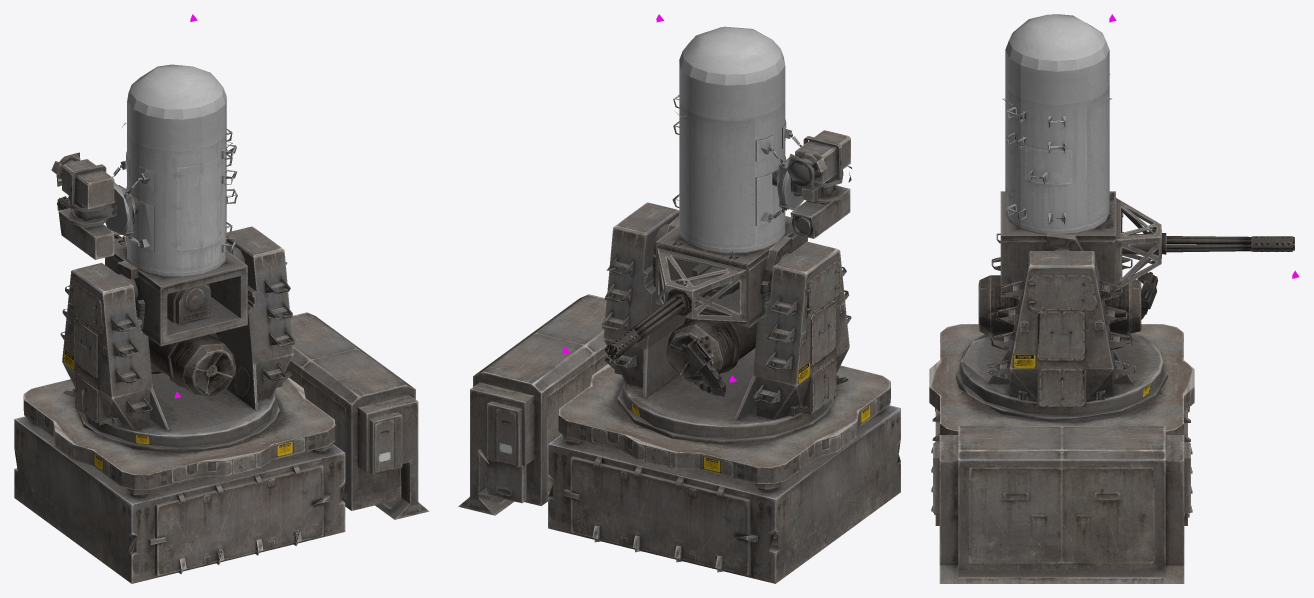
File: cram.glb
The picture shows the model from 3 angles, left to right: view 1: azimuth 30°, elevation 25°; view 2: azimuth 150°, elevation 25°; view 3: azimuth 270°, elevation 25°; orthographic projection. The views are drawn at different scales.
Parts seen in each view (by area): view 1: Body_1, Turret_1; view 2: Body_1, Turret_1; view 3: Body_1, Turret_1.
Boxes of the visible parts, left/top/right/bottom form: Body_1: left=14, top=312, right=429, bottom=583; Turret_1: left=51, top=64, right=295, bottom=430; Body_1: left=458, top=294, right=900, bottom=583; Turret_1: left=601, top=26, right=851, bottom=421; Body_1: left=929, top=324, right=1194, bottom=583; Turret_1: left=978, top=14, right=1294, bottom=406.
Size of the model in its own units: 12.05 by 17.81 by 12.15.
2 materials, 1 textured.
